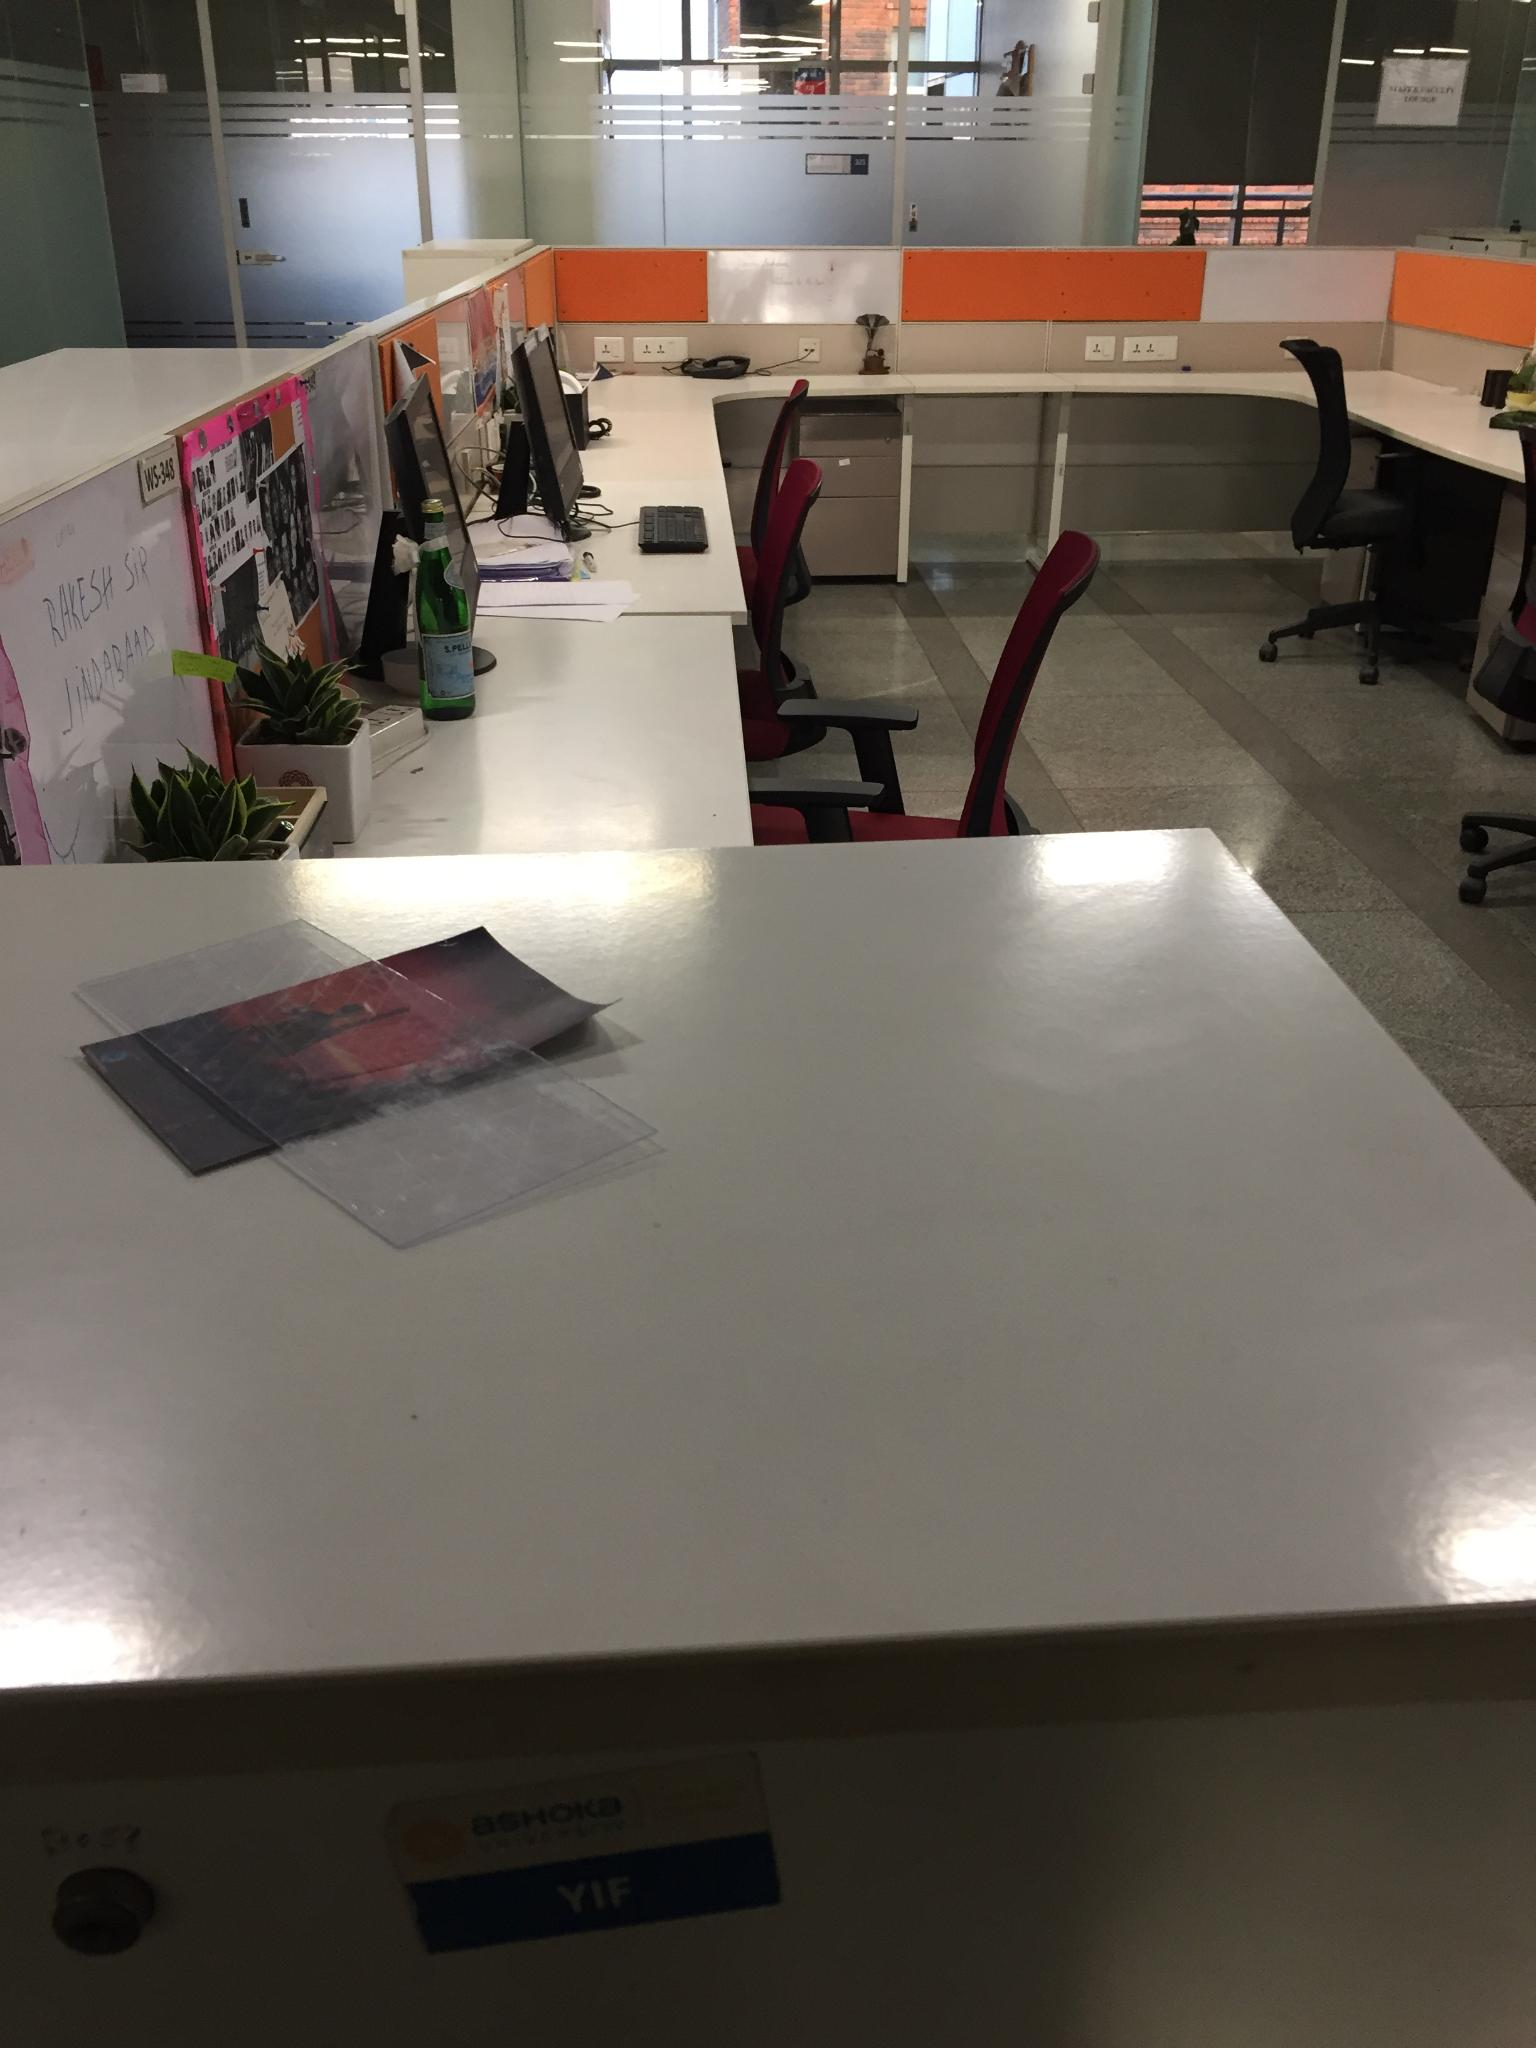chair: (747, 529, 1099, 842), (1258, 335, 1436, 684), (728, 358, 860, 653)
